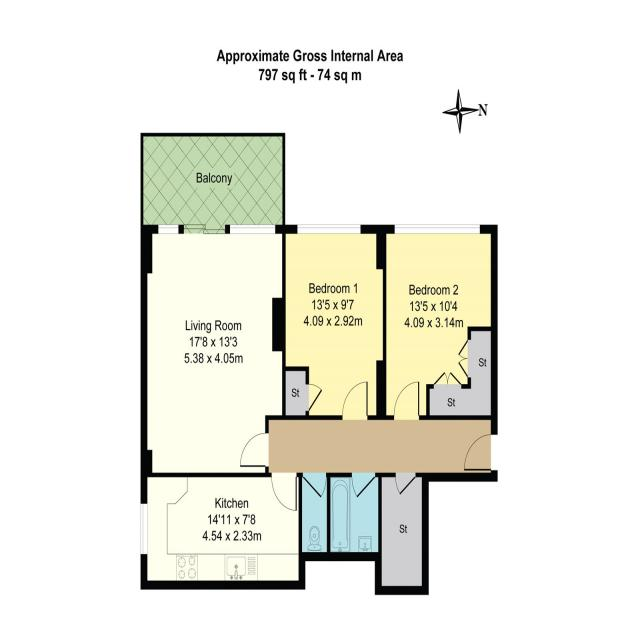DOOR: (463, 433, 498, 472), (341, 380, 369, 420), (239, 431, 269, 468), (393, 380, 420, 420), (270, 472, 297, 512), (351, 472, 376, 499), (302, 472, 327, 499)
ROOM: (140, 224, 286, 477), (376, 224, 498, 420), (272, 225, 387, 420), (140, 472, 306, 590)
SLIDING DOOR: (183, 224, 226, 235)
WINDOW: (394, 224, 481, 235), (297, 224, 361, 235), (229, 224, 276, 235), (140, 503, 148, 556), (157, 224, 179, 234)
